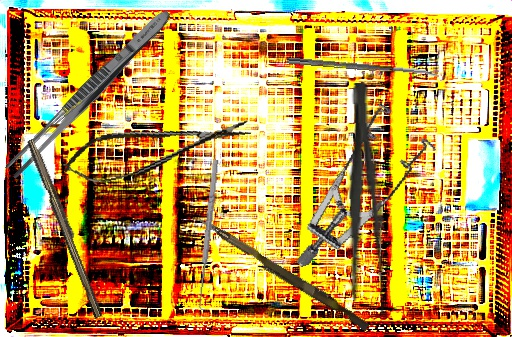Dressing Forceps: (2, 4, 176, 182), (338, 81, 391, 317)
Hook Surgical: (195, 159, 225, 311)
Micro Scissor: (59, 109, 255, 189)
Pusher: (194, 216, 373, 332)
Scalpel Handle: (23, 137, 109, 319)
Speculum: (255, 90, 458, 269)
Surgical Spoon: (286, 57, 440, 78)
